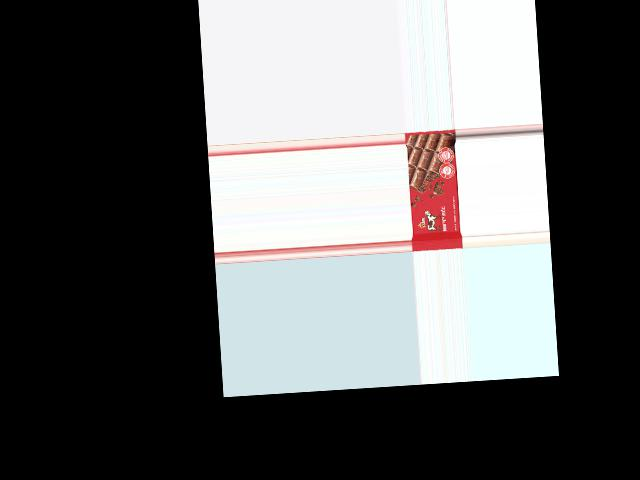chocolate: (405, 130, 463, 252)
